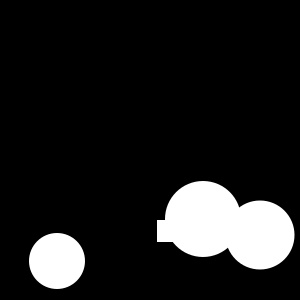circle: (157, 220, 179, 242)
rectangle: (165, 181, 241, 257), (226, 200, 294, 270), (29, 233, 85, 289)
